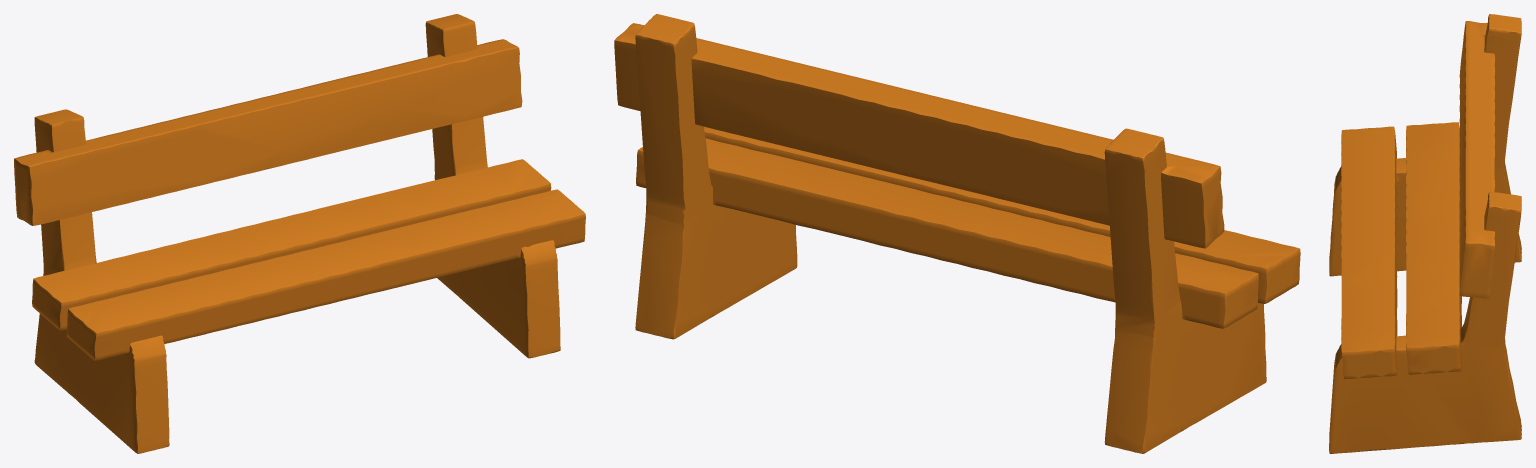
Rendered from Cadeira para namorar a mãe do bruno.FBX.
3 views of the same model, side by side, from view 1: azimuth 30°, elevation 25°; view 2: azimuth 150°, elevation 25°; view 3: azimuth 270°, elevation 25° (orthographic). The views are drawn at different scales.
Visible parts, largest first — view 1: Box008; view 2: Box008; view 3: Box008.
Part boxes in pixels (x1,y1,x2,y2): Box008: [14, 14, 585, 453]; Box008: [614, 14, 1300, 453]; Box008: [1329, 14, 1521, 453].
Size of the model in its own units: 2.94 by 1.53 by 1.08.
